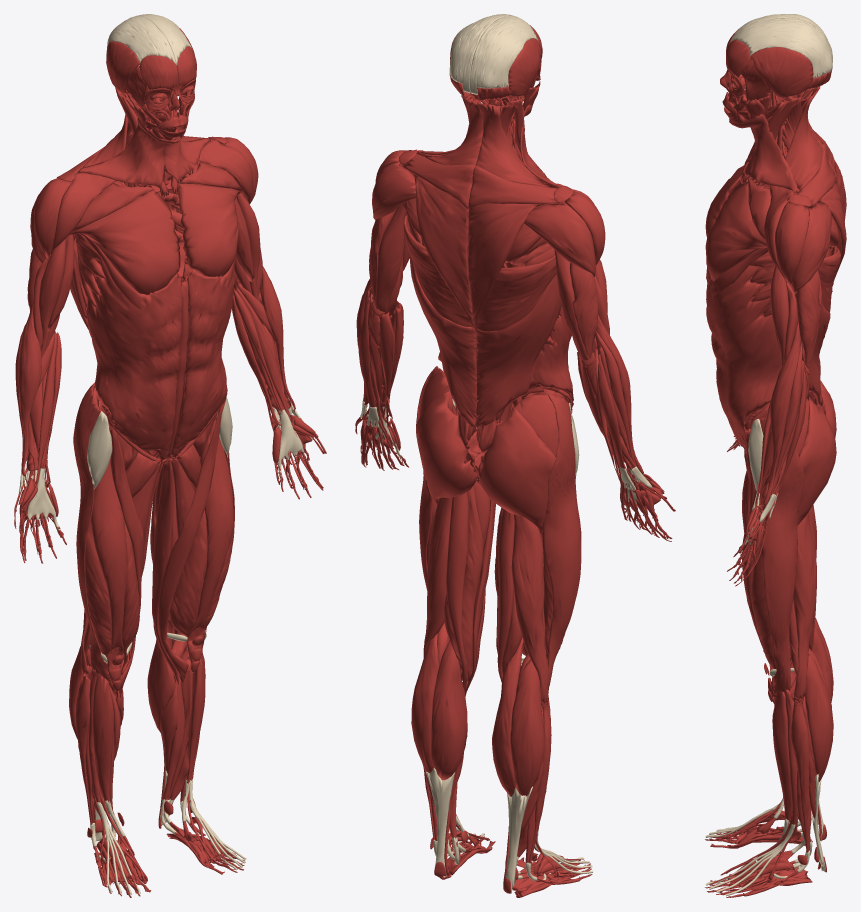
The model's file is muscles.glb.
3 renders of one model, left to right at view 1: azimuth 30°, elevation 25°; view 2: azimuth 150°, elevation 25°; view 3: azimuth 270°, elevation 25°, orthographic. The views are drawn at different scales.
Visible parts, largest first — view 1: external-abdominal-oblique-muscle-right, sternocostal-head-of-pectoralis-major-muscle-right, external-abdominal-oblique-muscle-left, sternocostal-head-of-pectoralis-major-muscle-left, rectus-femoris-muscle-right, rectus-femoris-muscle-left, sartorius-muscle-left, iliotibial-tract-right, platysma-right, vastus-medialis-muscle-left, gracilis-muscle-left, sartorius-muscle-right (+45 smaller); view 2: latissimus-dorsi-muscle-right, iliotibial-tract-right, latissimus-dorsi-muscle-left, gluteus-maximus-muscle-right, descending-part-of-trapezius-muscle-left, long-head-of-biceps-femoris-right, descending-part-of-trapezius-muscle-right, gluteus-maximus-muscle-left, medial-head-of-gastrocnemius-left, lateral-head-of-gastrocnemius-right, epicranial-aponeurosis-right, scapular-spinal-part-of-deltoid-muscle-right (+35 smaller); view 3: external-abdominal-oblique-muscle-left, iliotibial-tract-left, sternocostal-head-of-pectoralis-major-muscle-left, epicranial-aponeurosis-left, long-head-of-biceps-femoris-left, gluteus-maximus-muscle-left, temporoparietalis-muscle-left, lateral-head-of-gastrocnemius-left, platysma-left, brachioradialis-muscle-left, acromial-part-of-deltoid-muscle-left, scapular-spinal-part-of-deltoid-muscle-left (+40 smaller).
Boxes of the visible parts, <box> form: external-abdominal-oblique-muscle-right: <box>86,260,182,451</box>; sternocostal-head-of-pectoralis-major-muscle-right: <box>69,190,180,294</box>; external-abdominal-oblique-muscle-left: <box>174,265,234,448</box>; sternocostal-head-of-pectoralis-major-muscle-left: <box>178,183,240,277</box>; rectus-femoris-muscle-right: <box>90,444,127,691</box>; rectus-femoris-muscle-left: <box>186,419,233,672</box>; sartorius-muscle-left: <box>158,399,225,682</box>; iliotibial-tract-right: <box>73,382,110,681</box>; platysma-right: <box>78,118,176,187</box>; vastus-medialis-muscle-left: <box>169,510,207,656</box>; gracilis-muscle-left: <box>152,459,179,684</box>; sartorius-muscle-right: <box>108,424,143,697</box>; latissimus-dorsi-muscle-right: <box>475,254,561,428</box>; iliotibial-tract-right: <box>542,394,581,688</box>; latissimus-dorsi-muscle-left: <box>403,215,476,426</box>; gluteus-maximus-muscle-right: <box>478,406,555,530</box>; descending-part-of-trapezius-muscle-left: <box>414,174,475,330</box>; long-head-of-biceps-femoris-right: <box>511,514,549,703</box>; descending-part-of-trapezius-muscle-right: <box>468,203,544,330</box>; gluteus-maximus-muscle-left: <box>416,391,478,505</box>; medial-head-of-gastrocnemius-left: <box>431,640,467,780</box>; lateral-head-of-gastrocnemius-right: <box>510,659,544,796</box>; epicranial-aponeurosis-right: <box>469,15,538,94</box>; scapular-spinal-part-of-deltoid-muscle-right: <box>524,202,595,276</box>; external-abdominal-oblique-muscle-left: <box>706,265,781,445</box>; iliotibial-tract-left: <box>759,415,804,695</box>; sternocostal-head-of-pectoralis-major-muscle-left: <box>705,181,766,279</box>; epicranial-aponeurosis-left: <box>730,18,832,78</box>; long-head-of-biceps-femoris-left: <box>793,511,816,700</box>; gluteus-maximus-muscle-left: <box>797,396,836,525</box>; temporoparietalis-muscle-left: <box>750,47,813,97</box>; lateral-head-of-gastrocnemius-left: <box>805,654,833,781</box>; platysma-left: <box>729,114,797,192</box>; brachioradialis-muscle-left: <box>763,321,800,506</box>; acromial-part-of-deltoid-muscle-left: <box>775,202,809,285</box>; scapular-spinal-part-of-deltoid-muscle-left: <box>791,203,831,294</box>.
Size of the model in its own units: 0.6598 by 1.7 by 0.2585.
